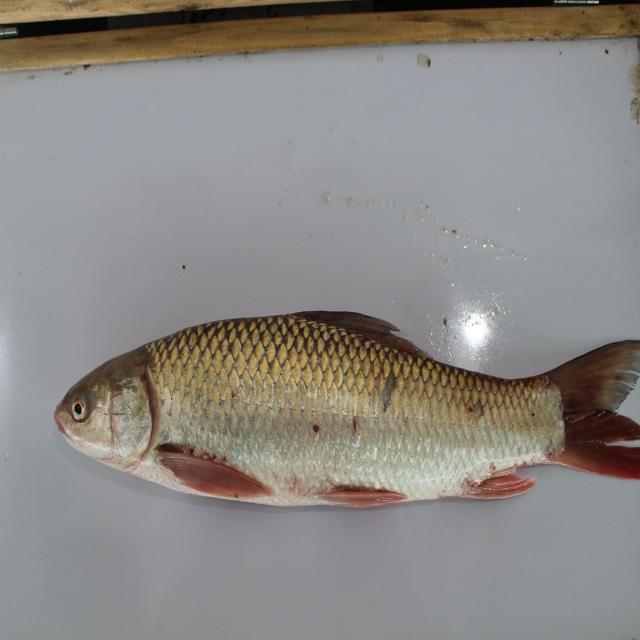Mori: (47, 289, 640, 530)
